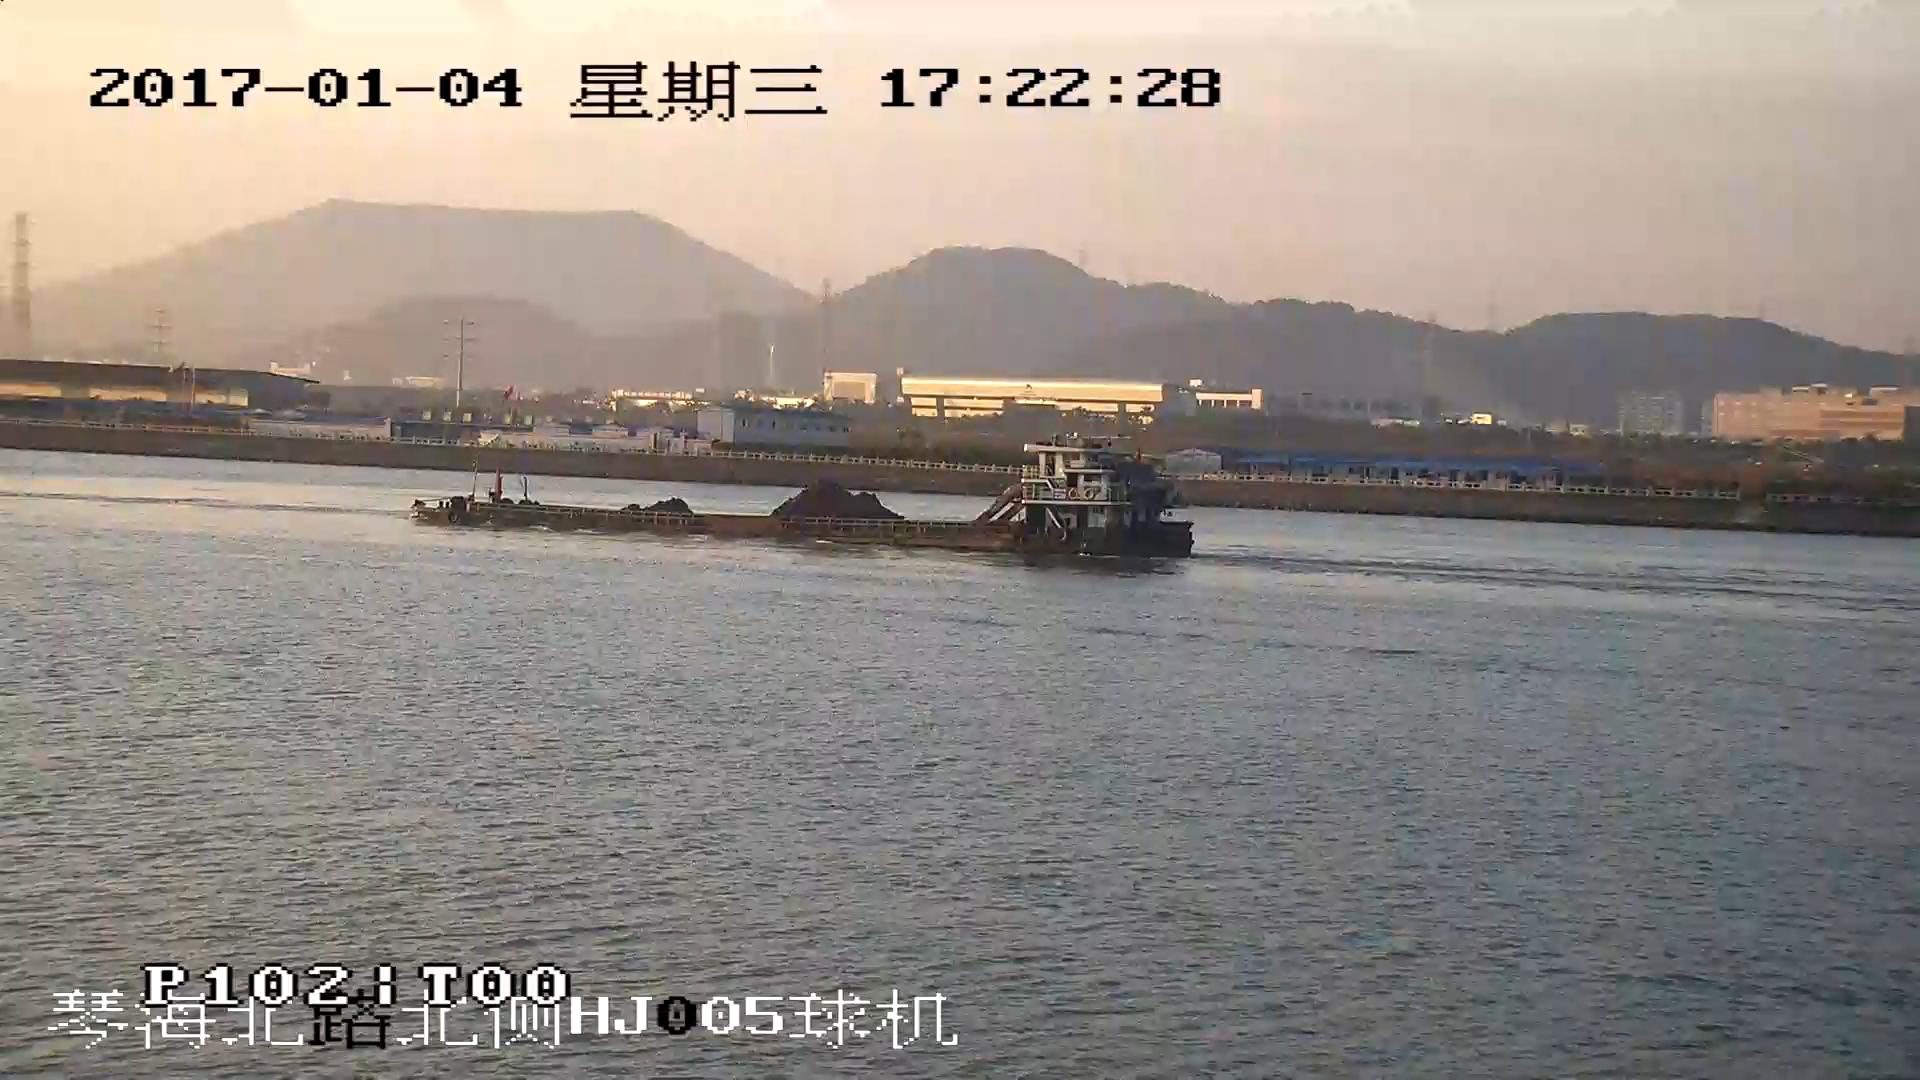ore carrier: (411, 438, 1195, 557)
